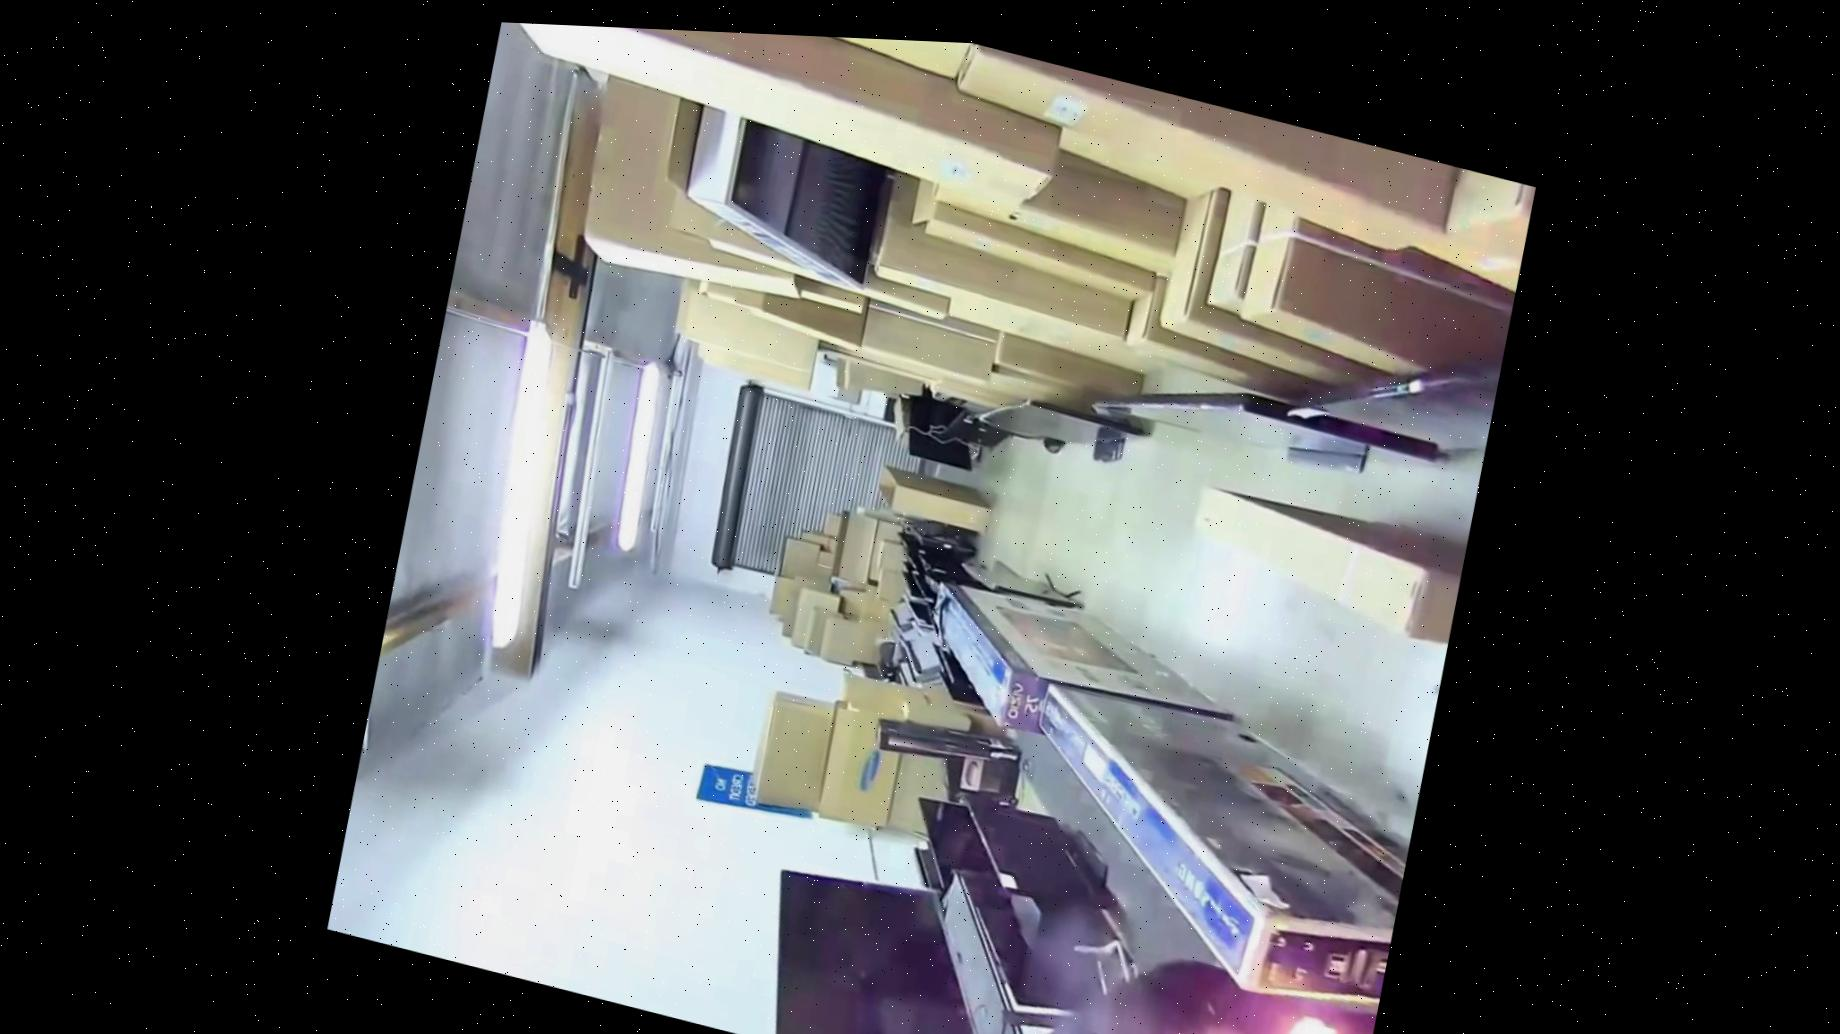fire: (1174, 927, 1381, 1034)
